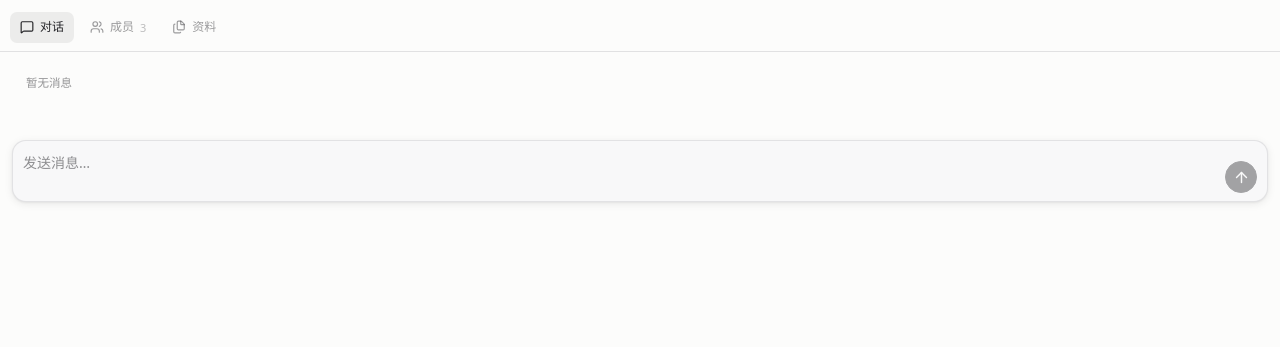
`@` 菜单：输入框里的样子 › 打一个 @ 弹出来，选中之后插进输入框
In the text box with test id "group-composer-input": [621, 171] box [23,149,1219,193], type "@"
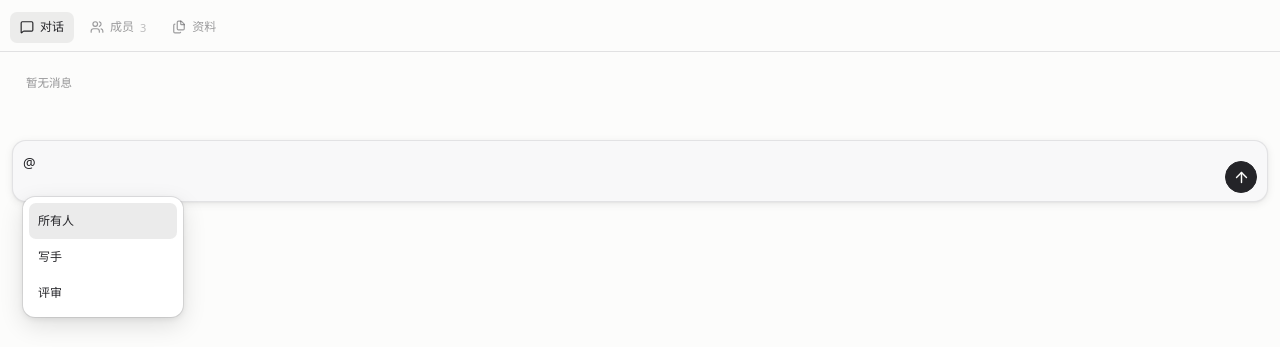
Result: the list with test id "group-mention-menu" is shown at [23,197,183,317]
Result: the option with test id "group-mention-@everyone" reads "所有人" at [29,203,177,239]
# 上下键挪选中项，回车插入。
Press ArrowDown in the text box with test id "group-composer-input", box [23,149,1219,193]
Press Enter in the text box with test id "group-composer-input", box [23,149,1219,193]
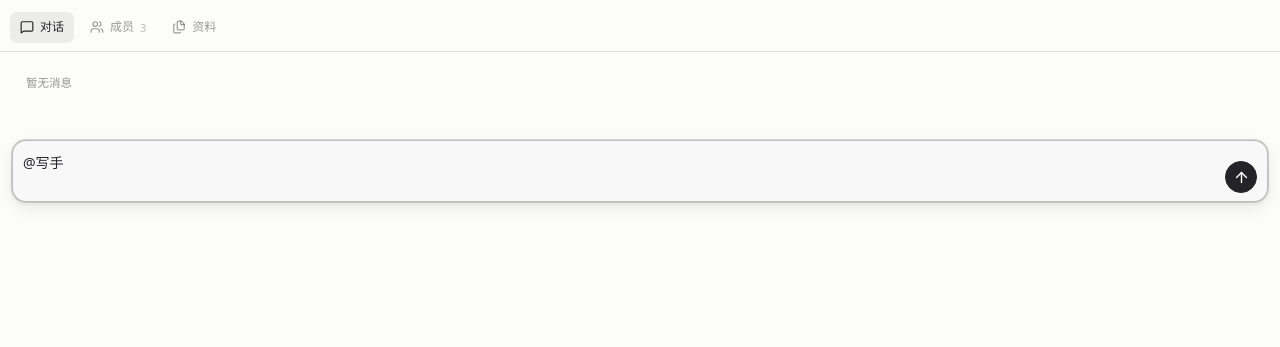
Result: the text box with test id "group-composer-input" holds "@写手 " at [23,149,1219,193]
Result: the list with test id "group-mention-menu" is gone
